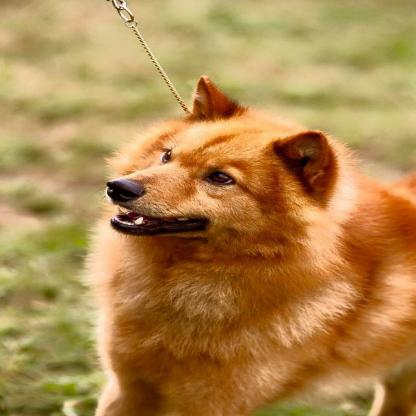finnish spitz: (34, 63, 416, 416)
